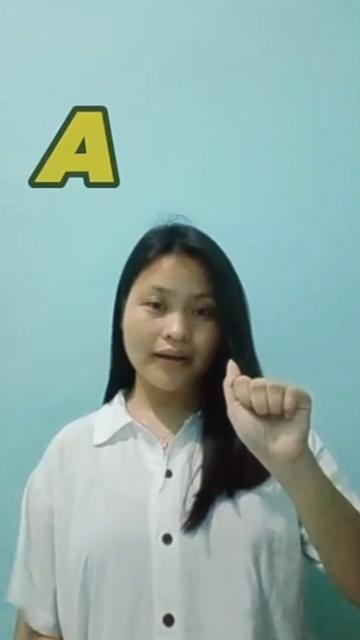A: (216, 352, 326, 476)
